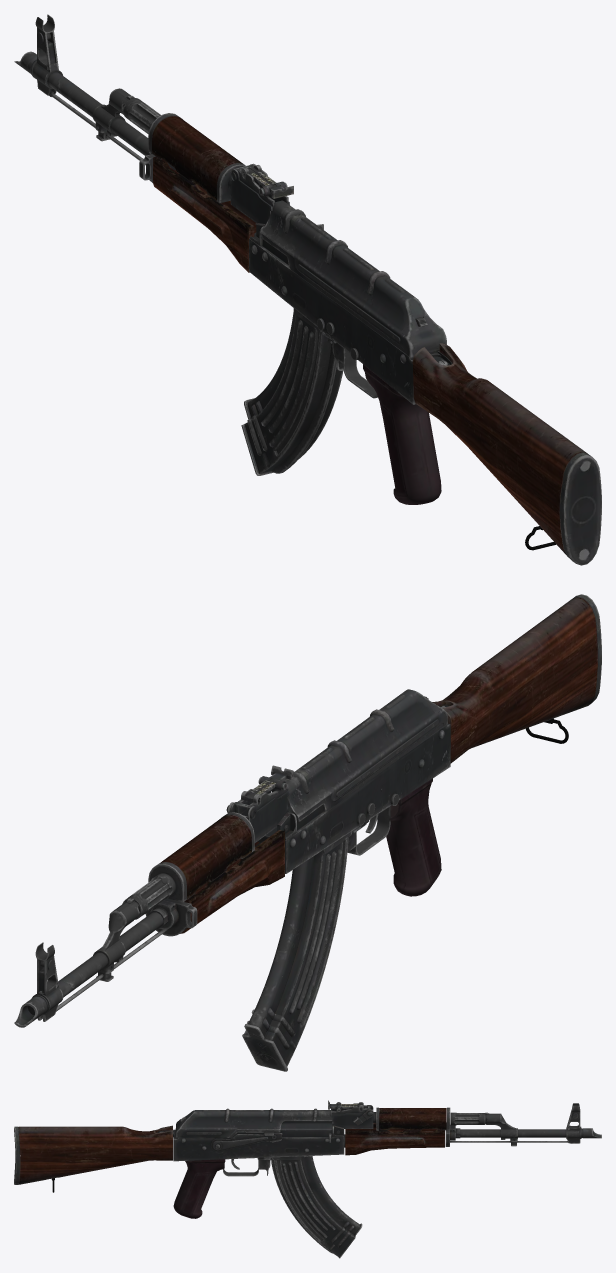
The picture shows the model from 3 angles, top to bottom: view 1: azimuth 30°, elevation 25°; view 2: azimuth 150°, elevation 25°; view 3: azimuth 270°, elevation 25°; orthographic projection. The views are drawn at different scales.
Visible parts, largest first — view 1: l_stockWood_low, u_dustcover_low, bm_magazine_low, m_base_low, bl_grip_low, l_stockMetal_low, r_woodLower_low_Material #44_0, ur_woodUpper_low, r_barrel_low, r_barrelAim_low, r_numberBase_low, r_Connector_low (+2 smaller); view 2: l_stockWood_low, bm_magazine_low, u_dustcover_low, m_base_low, bl_grip_low, ur_woodUpper_low, r_woodLower_low_Material #44_0, r_barrel_low, r_Connector_low, r_barrelAim_low, r_numberBase_low, bm_magazineBottom_low (+6 smaller); view 3: l_stockWood_low, bm_magazine_low, u_dustcover_low, m_base_low, r_woodLower_low_Material #44_0, bl_grip_low, ur_woodUpper_low, u_dustcoverHolder_low, r_barrel_low, m_safetyswitch_low, r_numberBase_low, r_Connector_low (+5 smaller).
Boxes of the visible parts, box(x1,y1,x2,y2) form: l_stockWood_low: box(412, 343, 587, 557); u_dustcover_low: box(260, 200, 446, 357); bm_magazine_low: box(244, 311, 343, 473); m_base_low: box(249, 232, 437, 404); bl_grip_low: box(363, 364, 441, 504); l_stockMetal_low: box(560, 452, 601, 565); r_woodLower_low_Material #44_0: box(153, 156, 256, 272); ur_woodUpper_low: box(152, 116, 242, 200); r_barrel_low: box(47, 72, 149, 155); r_barrelAim_low: box(32, 14, 62, 95); r_numberBase_low: box(230, 164, 289, 224); r_Connector_low: box(92, 88, 134, 134); l_stockWood_low: box(432, 597, 597, 763); bm_magazine_low: box(244, 837, 348, 1066); u_dustcover_low: box(272, 689, 447, 822); m_base_low: box(254, 723, 450, 873); bl_grip_low: box(386, 778, 441, 896); ur_woodUpper_low: box(161, 814, 251, 899); r_woodLower_low_Material #44_0: box(180, 830, 284, 933); r_barrel_low: box(58, 912, 163, 997); r_Connector_low: box(93, 898, 140, 968); r_barrelAim_low: box(35, 942, 63, 1021); r_numberBase_low: box(230, 790, 289, 842); bm_magazineBottom_low: box(242, 1024, 287, 1071); l_stockWood_low: box(18, 1125, 172, 1184); bm_magazine_low: box(271, 1156, 360, 1256); u_dustcover_low: box(175, 1108, 332, 1137); m_base_low: box(173, 1129, 345, 1161); r_woodLower_low_Material #44_0: box(345, 1123, 444, 1155); bl_grip_low: box(173, 1159, 225, 1218); ur_woodUpper_low: box(379, 1108, 446, 1130); u_dustcoverHolder_low: box(233, 1121, 332, 1136); r_barrel_low: box(460, 1129, 566, 1137); m_safetyswitch_low: box(211, 1132, 282, 1151); r_numberBase_low: box(331, 1105, 373, 1128); r_Connector_low: box(485, 1112, 517, 1138).
Size of the model in its own units: 0.0623 by 0.2515 by 0.88.
1 material, 1 textured.
